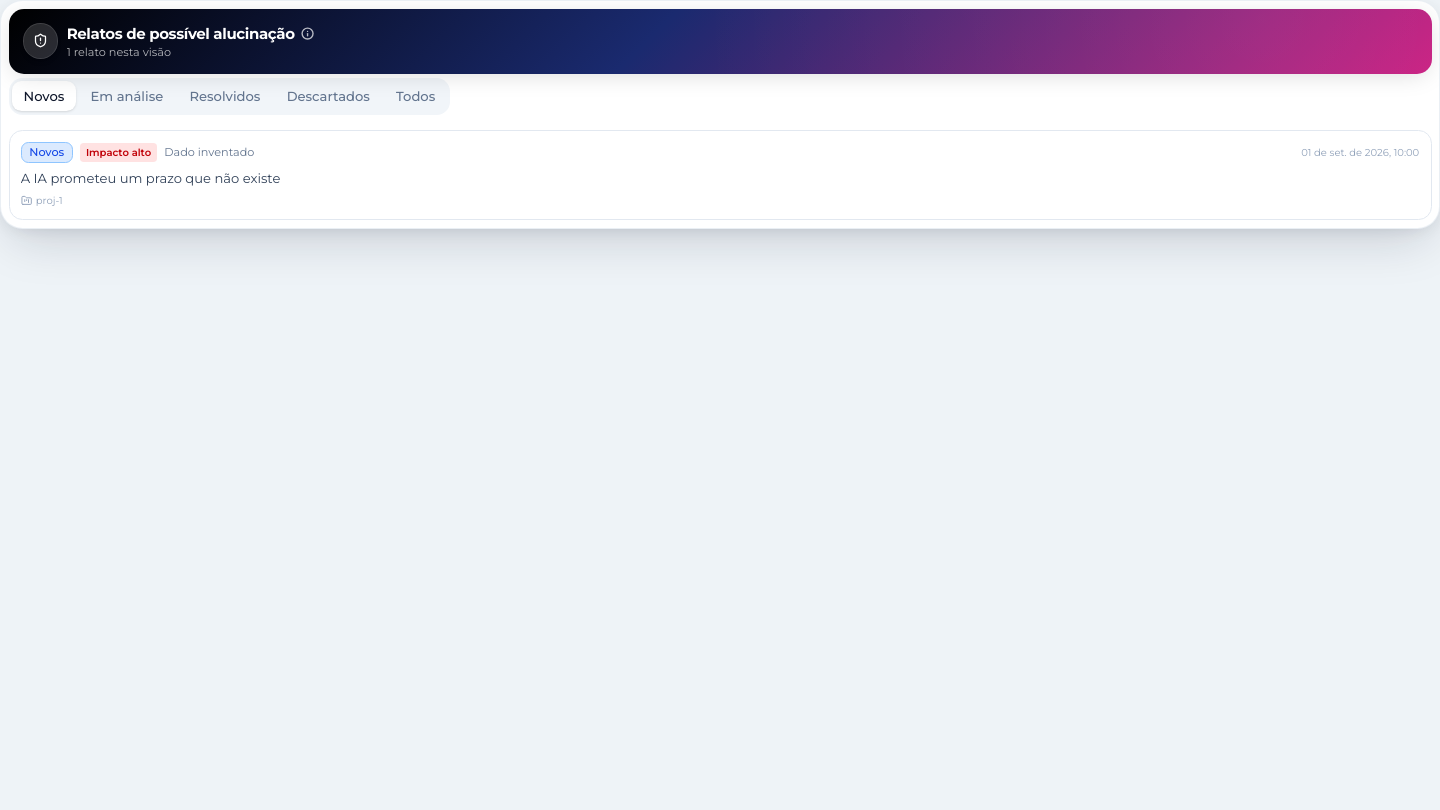
Central administrativa de possível alucinação (/admin/relatos-ia) › abre o detalhe do relato ao clicar na linha
Click the text "A IA prometeu um prazo que não existe".
click(151, 178)  # box top-left (21, 170), bottom-right (280, 186)
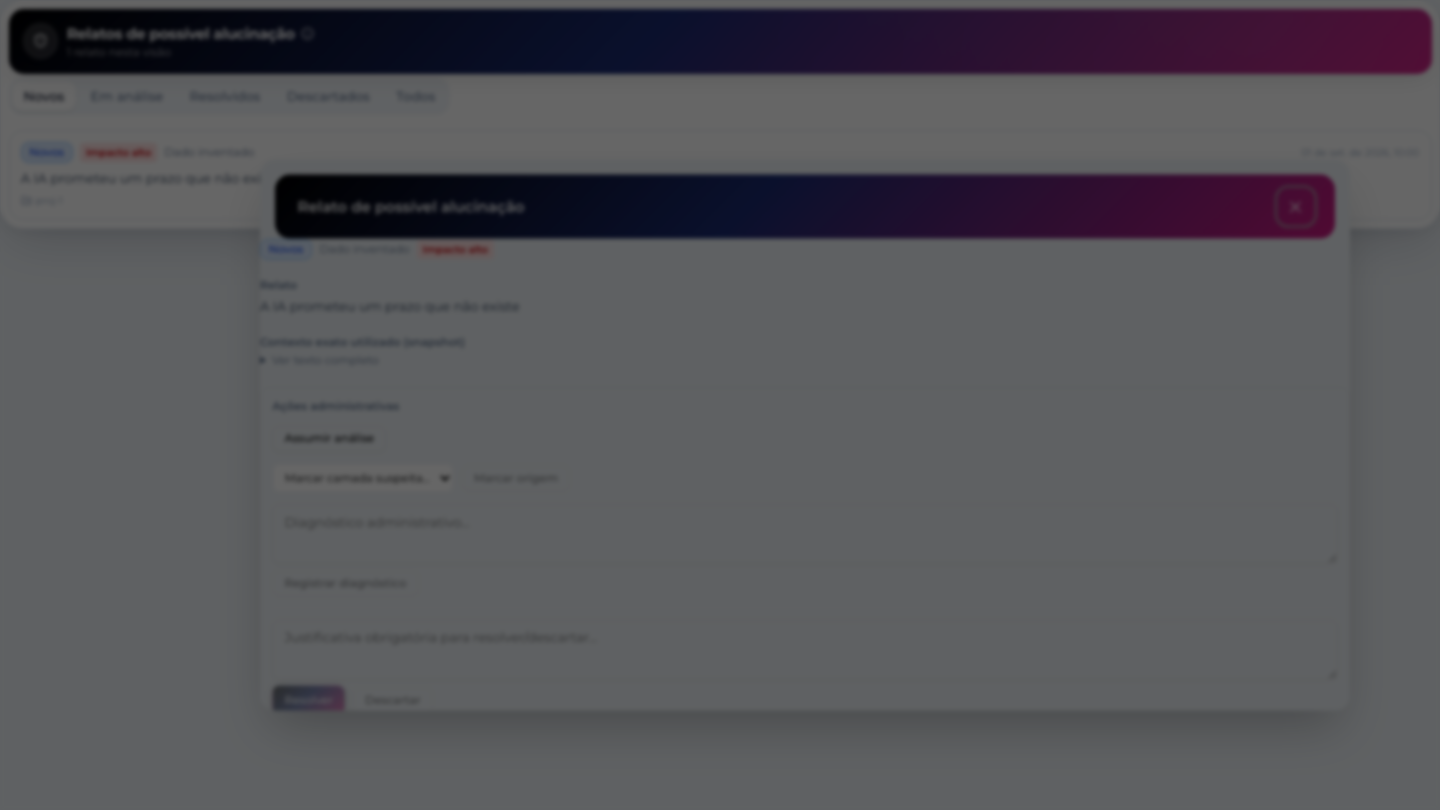
Expected: the text "Contexto exato utilizado (snapshot)" is shown, top-left (260, 334), bottom-right (465, 348)
